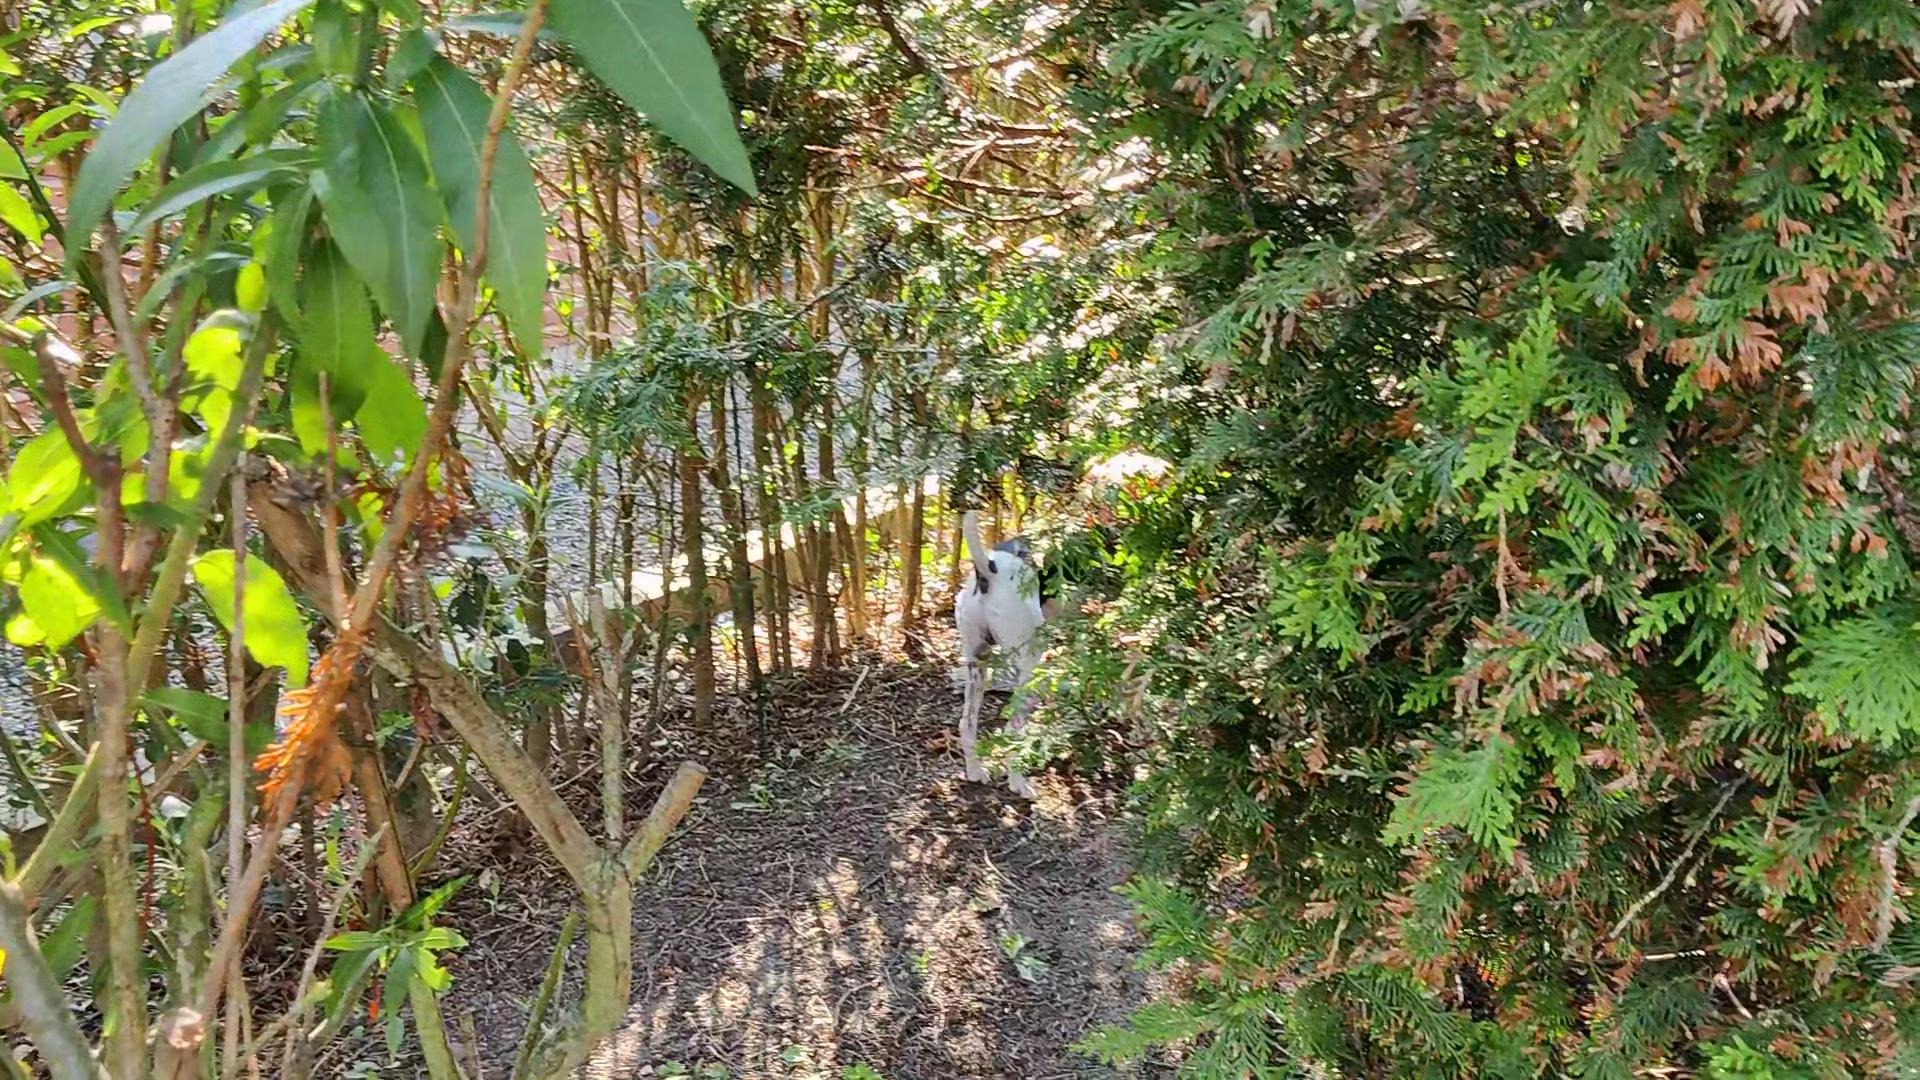Dog: (916, 472, 1160, 808)
